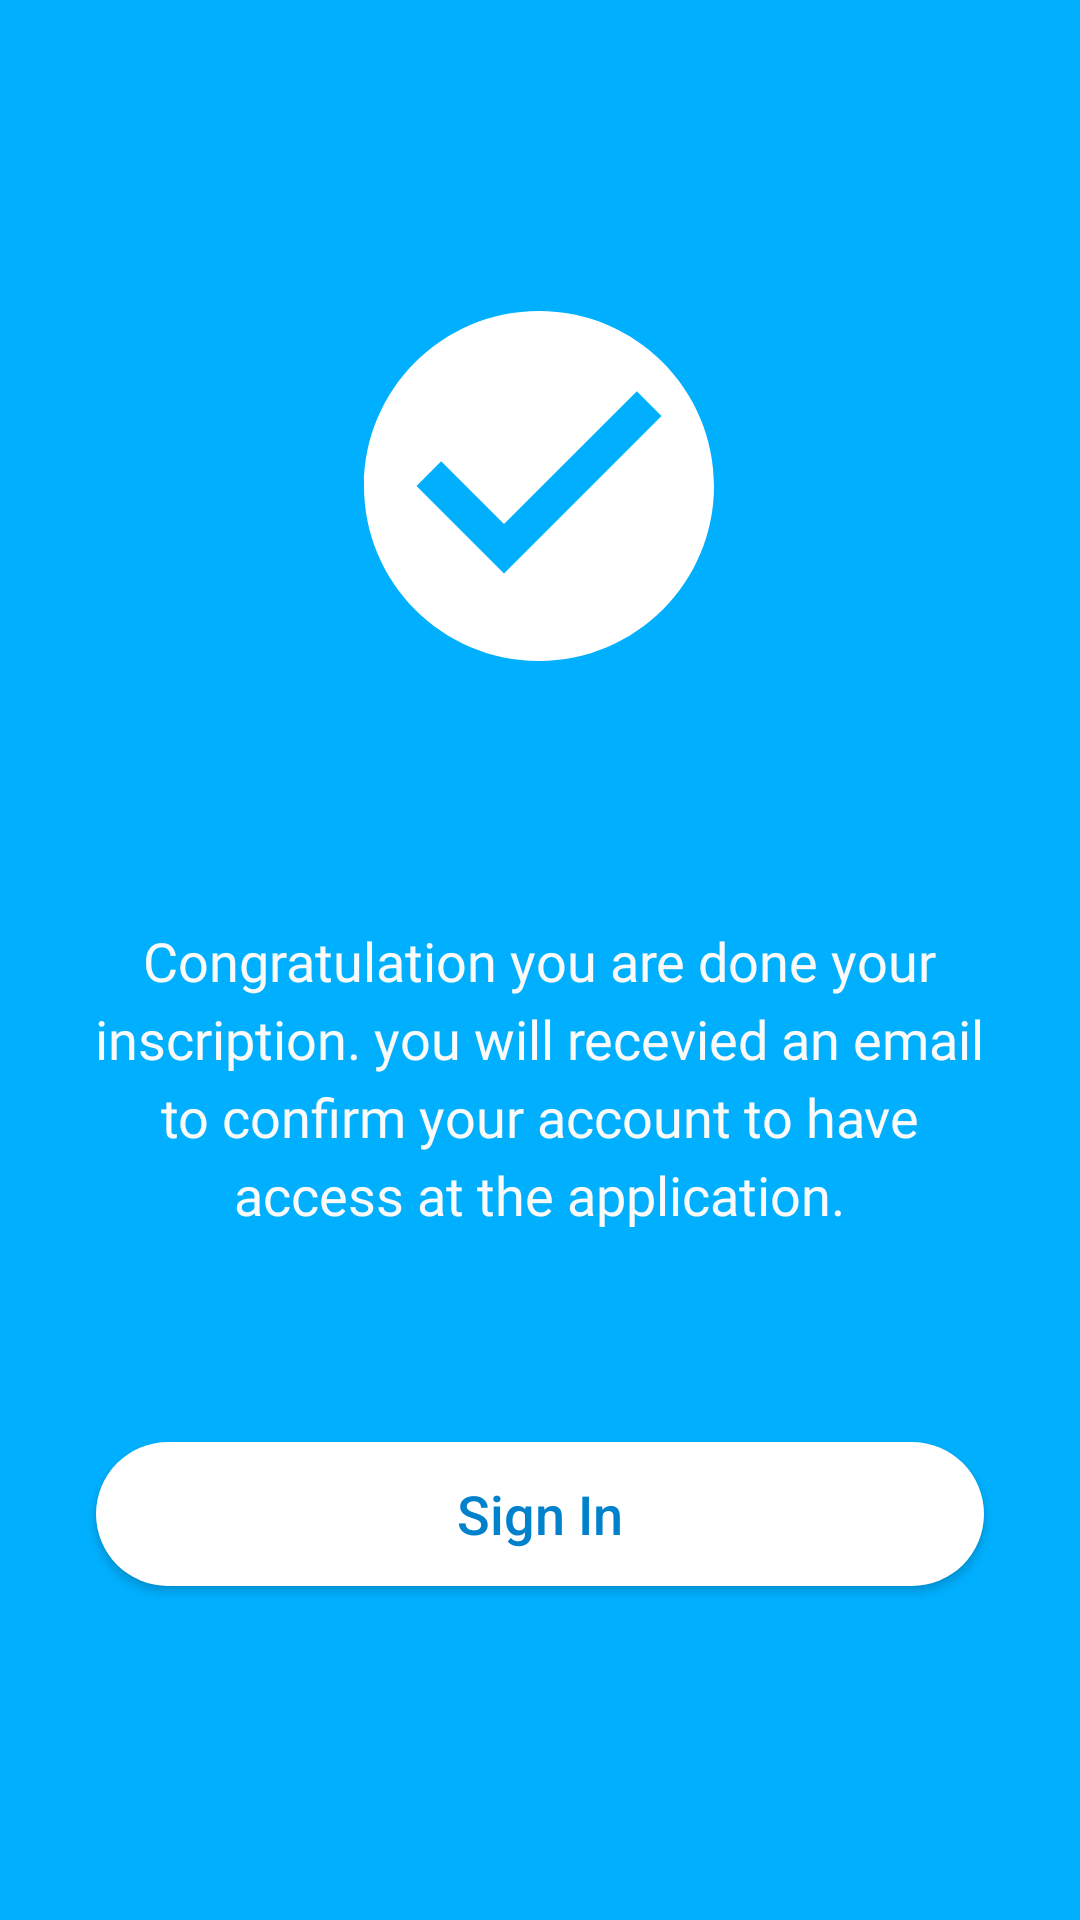

Icon click points for this 1080×1920 phone screenshot, format point (x, y):
check circle: point (539, 486)
